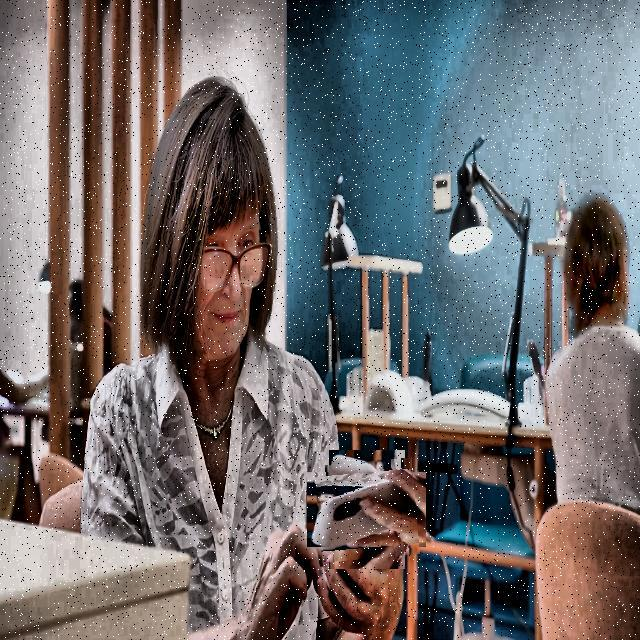Phone: (316, 459, 418, 560)
